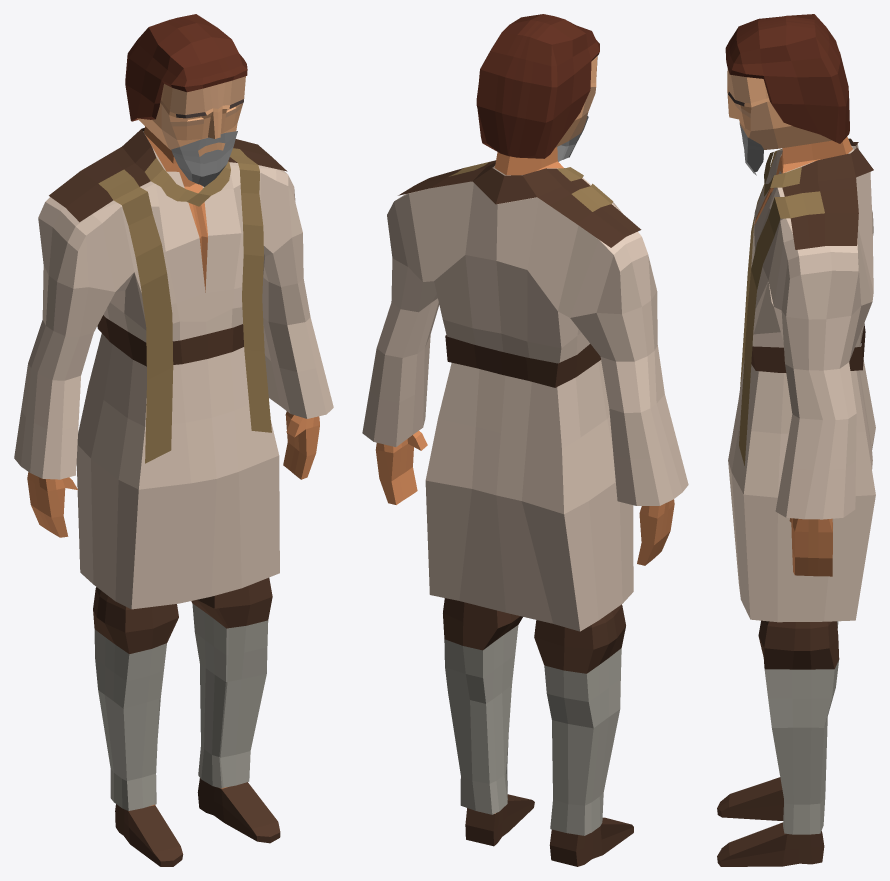
Rendered from The innkeeper.fbx.
3 renders of one model, left to right at view 1: azimuth 30°, elevation 25°; view 2: azimuth 150°, elevation 25°; view 3: azimuth 270°, elevation 25°, orthographic. The views are drawn at different scales.
Visible parts, largest first — view 1: garments, bady.001, garments.001, bady, hair, head, belt, mustache; view 2: garments, bady.001, hair, bady, garments.001, belt, head; view 3: garments, bady.001, hair, garments.001, bady, head, belt, mustache.
Boxes of the visible parts, <box> form: garments: <box>14,131,333,609</box>; bady.001: <box>93,577,272,810</box>; garments.001: <box>49,128,287,463</box>; bady: <box>27,126,319,866</box>; hair: <box>125,14,247,121</box>; head: <box>137,76,245,156</box>; belt: <box>97,315,243,366</box>; mustache: <box>171,131,237,186</box>; garments: <box>362,166,688,631</box>; bady.001: <box>443,598,625,835</box>; hair: <box>476,14,599,158</box>; bady: <box>375,147,674,866</box>; garments.001: <box>398,160,641,247</box>; belt: <box>445,335,600,387</box>; head: <box>555,56,597,147</box>; garments: <box>728,144,875,622</box>; bady.001: <box>758,620,839,834</box>; hair: <box>725,14,849,143</box>; garments.001: <box>739,138,873,465</box>; bady: <box>717,136,852,866</box>; head: <box>727,68,831,149</box>; belt: <box>751,324,865,372</box>; mustache: <box>739,122,763,175</box>.
Bounding box in the file's own units: 313 × 806 × 142.
